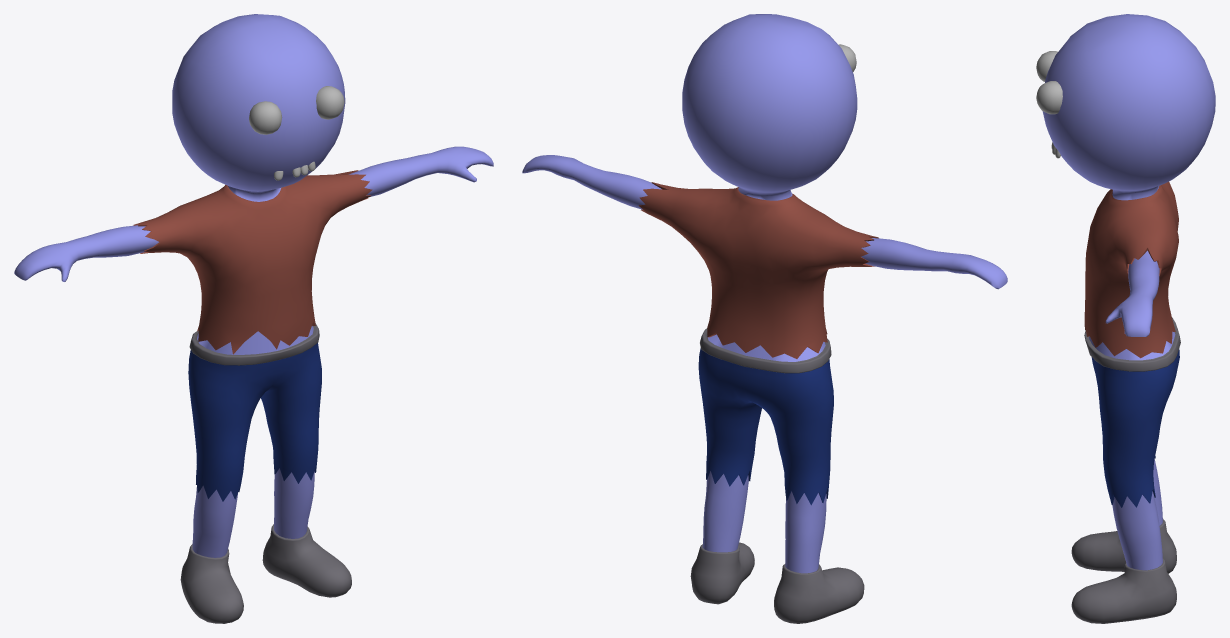
File: zombie.fbx
3 renders of one model, left to right at view 1: azimuth 30°, elevation 25°; view 2: azimuth 150°, elevation 25°; view 3: azimuth 270°, elevation 25°, orthographic.
Visible parts, largest first — view 1: zombie; view 2: zombie; view 3: zombie.
Boxes of the visible parts, box(x1,y1,x2,y2) form: zombie: box(14, 14, 493, 623); zombie: box(522, 14, 1007, 623); zombie: box(1036, 14, 1215, 623).
Bounding box in the file's own units: 1.56 × 0.5174 × 1.8.
